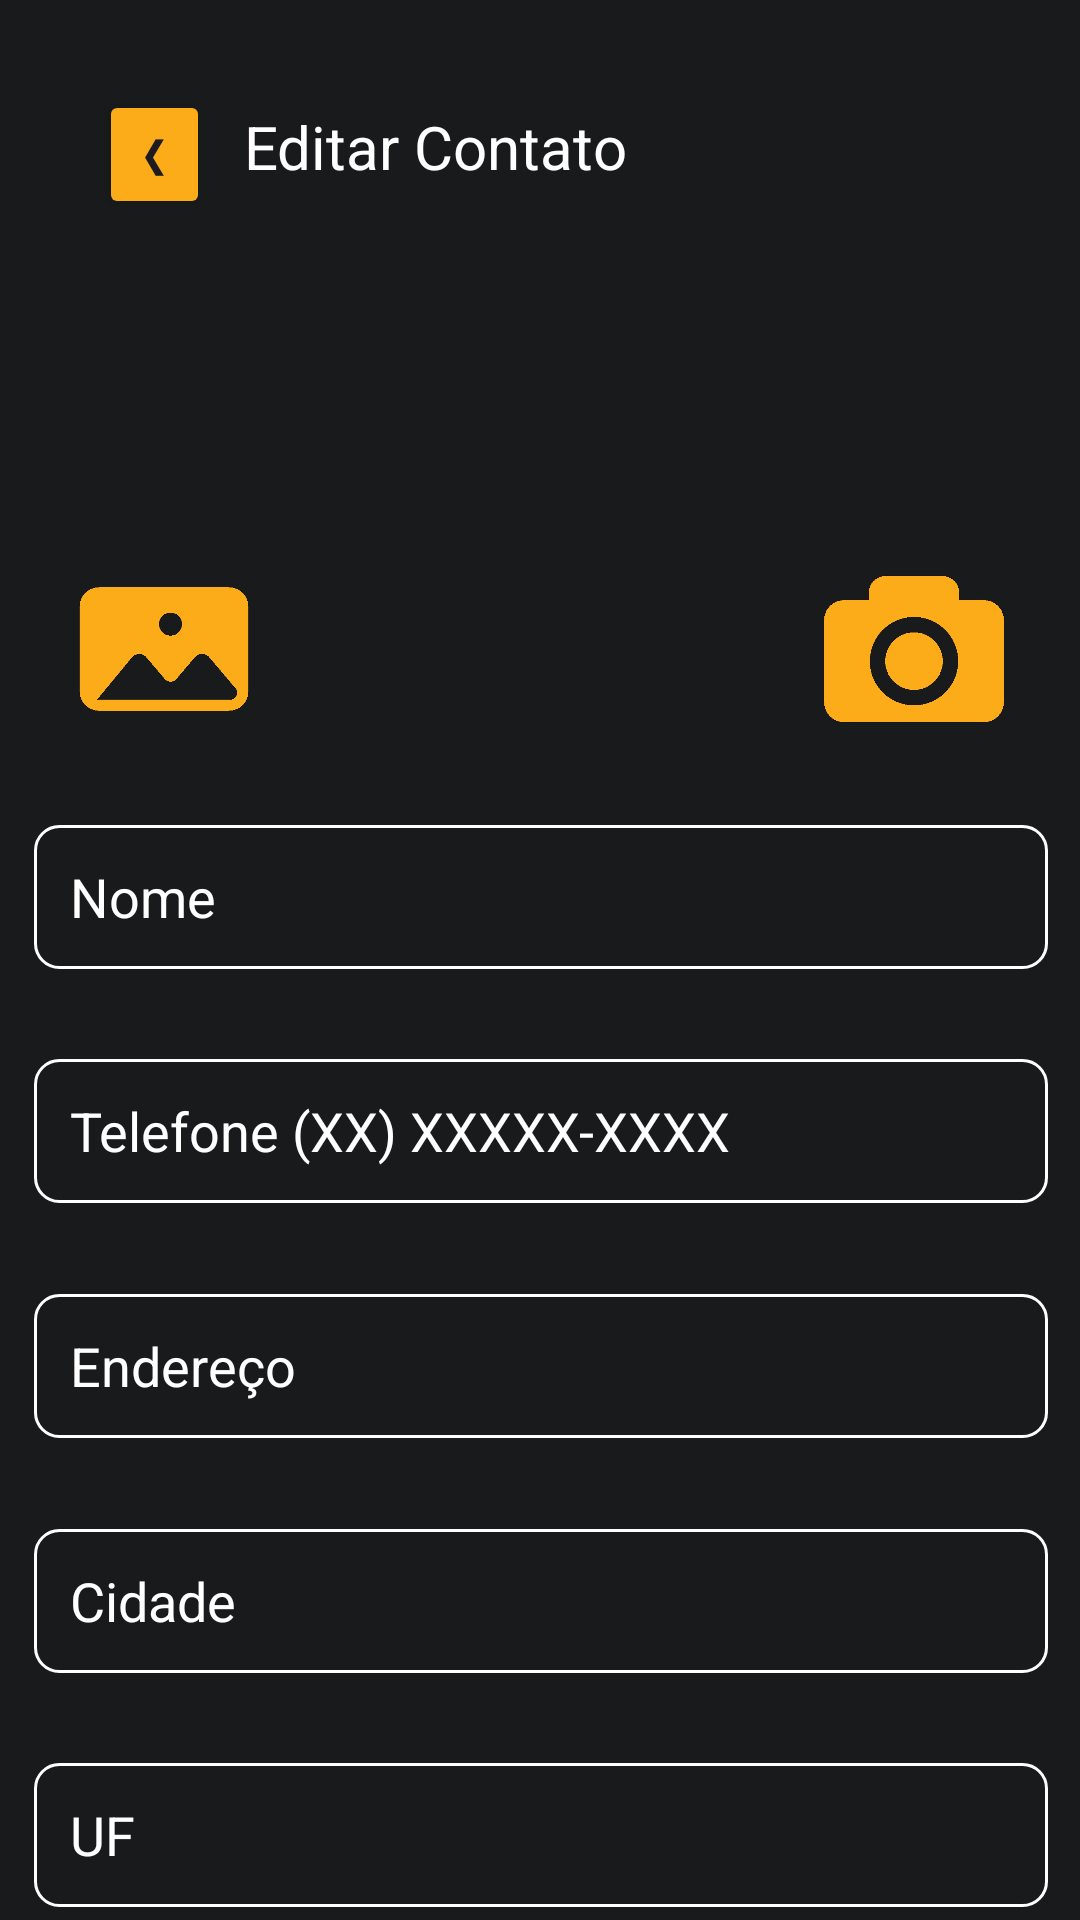

Icons on this 1080x1920 Android screen, each with its box as {"left": x1, "top": y1, "right": x2, "bottom": y2}:
camera: {"left": 824, "top": 576, "right": 1004, "bottom": 722}
galery: {"left": 79, "top": 587, "right": 249, "bottom": 711}
